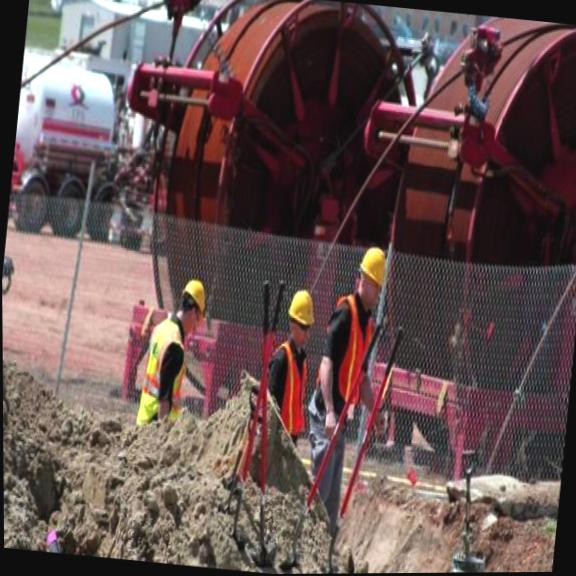safety_vest: (134, 314, 194, 429), (264, 336, 316, 438), (334, 300, 379, 411)
